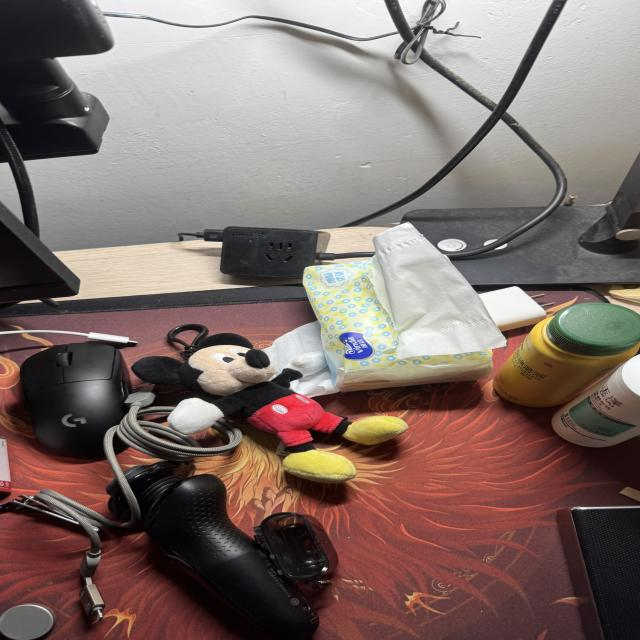mickey: (133, 334, 406, 482)
tissue: (304, 261, 492, 391), (371, 223, 505, 357), (264, 322, 338, 397)
